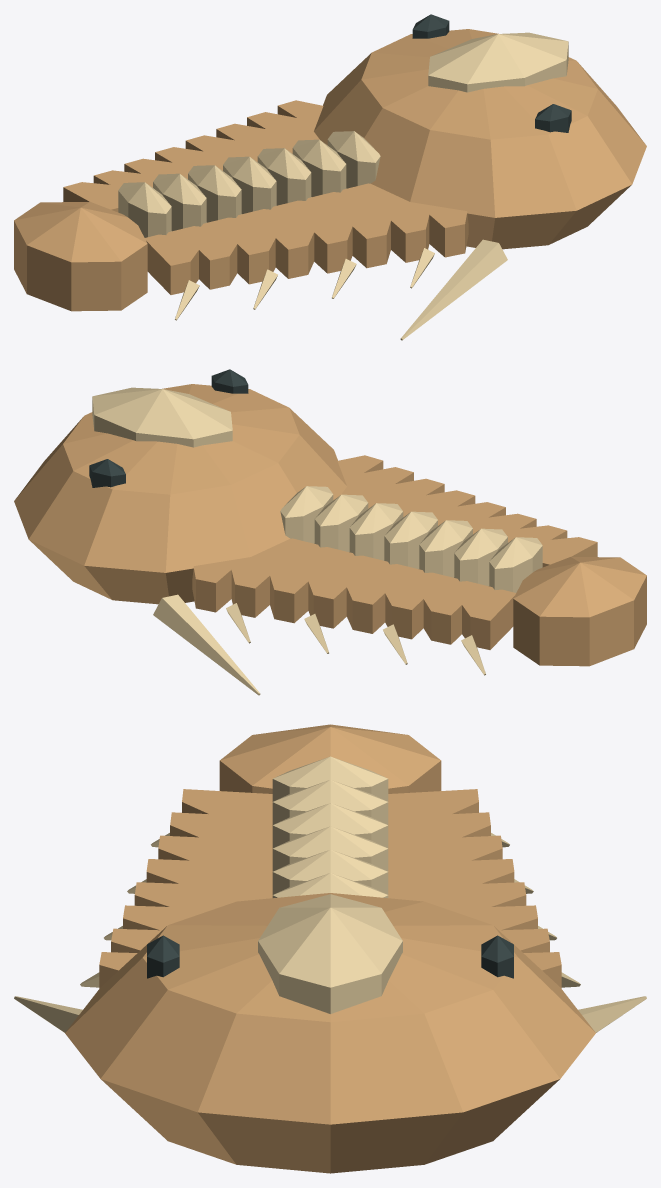
Rendered from ameura-little-nemaha-496317.38fc7b098040.glb.
3 views of the same model, one above another, from view 1: azimuth 30°, elevation 25°; view 2: azimuth 150°, elevation 25°; view 3: azimuth 270°, elevation 25° (orthographic). The views are drawn at different scales.
Visible parts, largest first — view 1: ameura-little-nemaha-496317; view 2: ameura-little-nemaha-496317; view 3: ameura-little-nemaha-496317.
Part boxes in pixels (bbox=[...]): ameura-little-nemaha-496317: bbox=[14, 14, 646, 340]; ameura-little-nemaha-496317: bbox=[14, 369, 646, 695]; ameura-little-nemaha-496317: bbox=[14, 724, 646, 1173].
Size of the model in its own units: 1 by 0.2905 by 0.6798.
